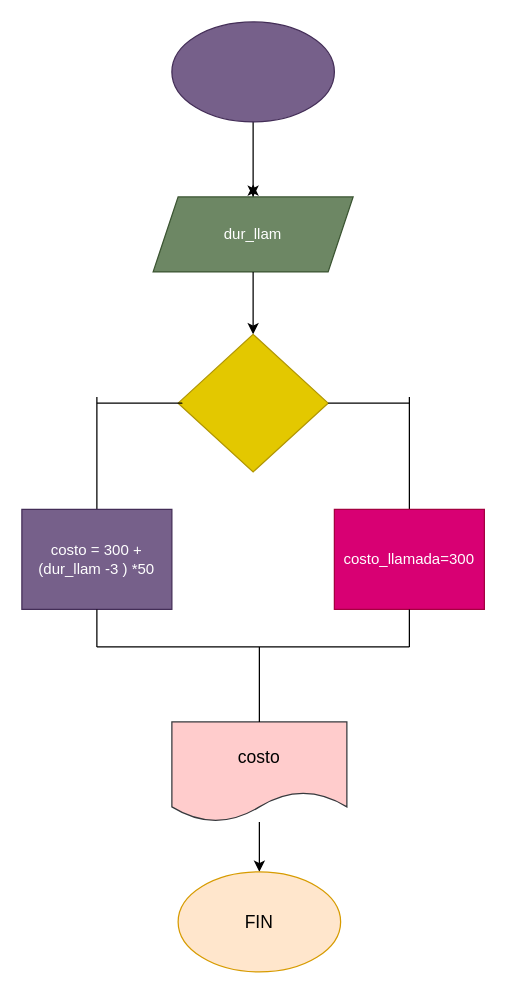
The diagram is 506 pixels wide and 994 high, and some of its shapes have lost their labels. The centre of each missing label's shape, as x and y in pixels:
"dur llam <=3" belongs at point (252, 402).
"INICIO" belongs at point (252, 71).
